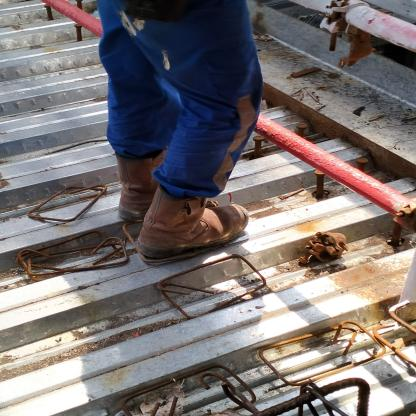bota: (131, 190, 266, 262), (104, 147, 163, 219)
